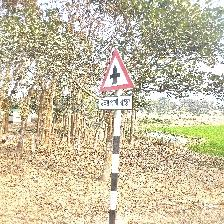Crossroad: (99, 44, 137, 115)
